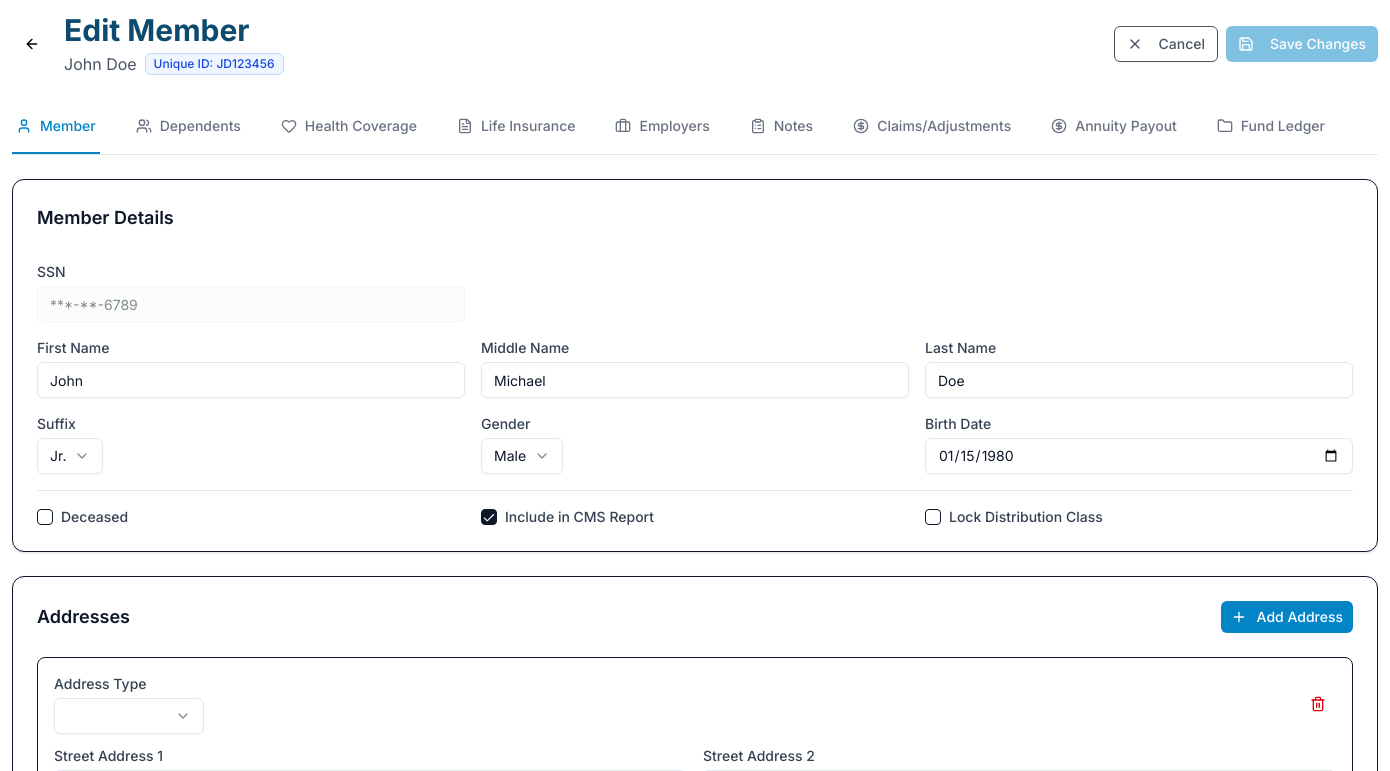
it: MemberDetailPage › Member Notes Management › should display existing notes in notes tab
The image size is (1390, 771).
Switch to notes tab
Click the button "Notes": (781, 127) top-left (746, 100), bottom-right (817, 154)
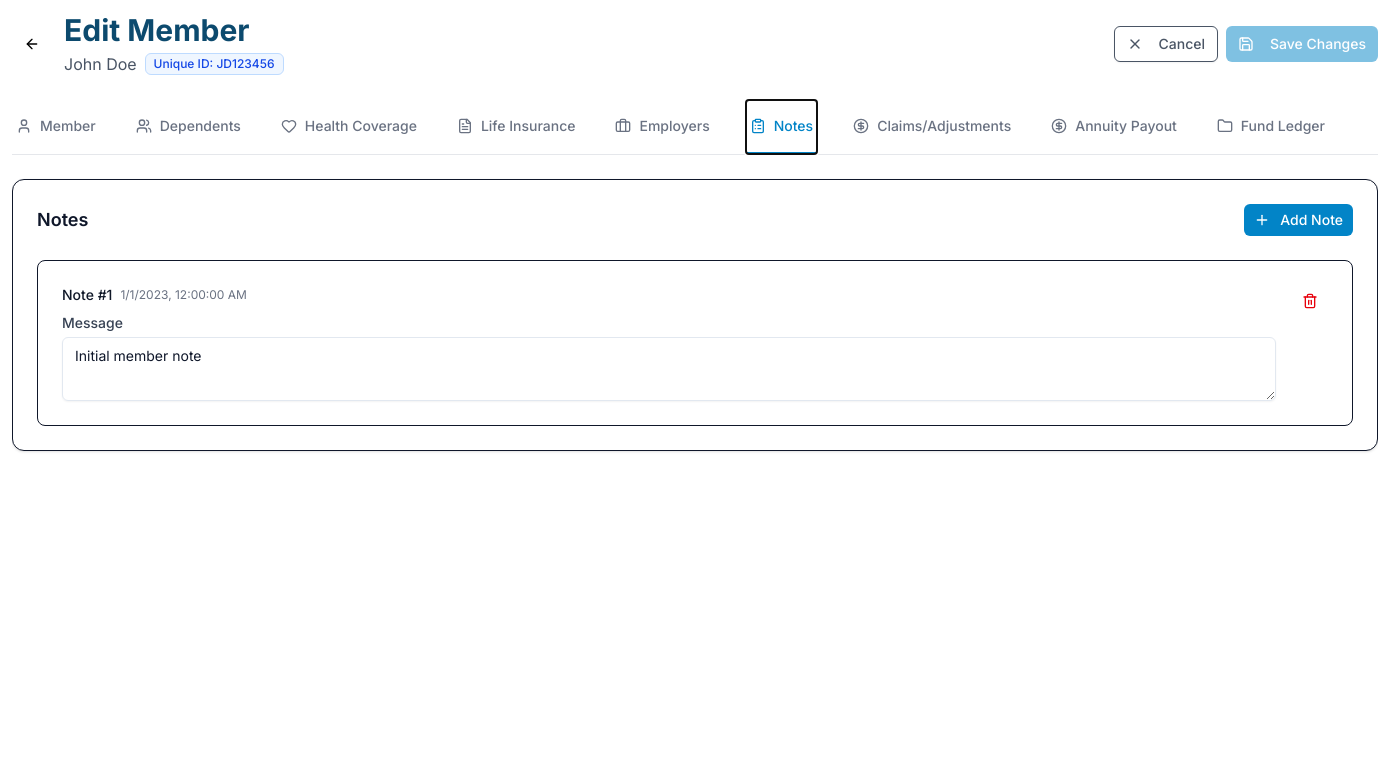
Check: the text box showing "Initial member note" is shown, box top-left (62, 337), bottom-right (1276, 401)
